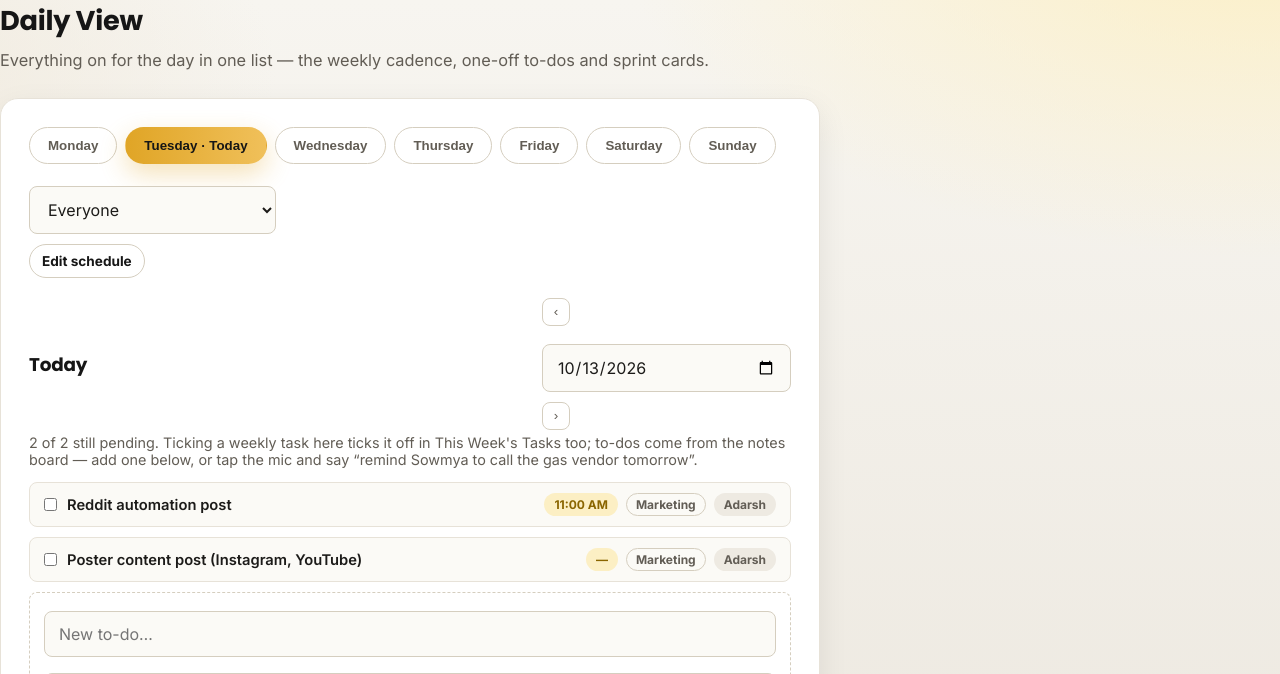
Test case: edit mode turns the rows into fields holding what the schedule says
What coordinates should you click on to do the following:
click the button "Monday"
I would click on:
 (73, 146)
Its box is [29, 127, 117, 164].
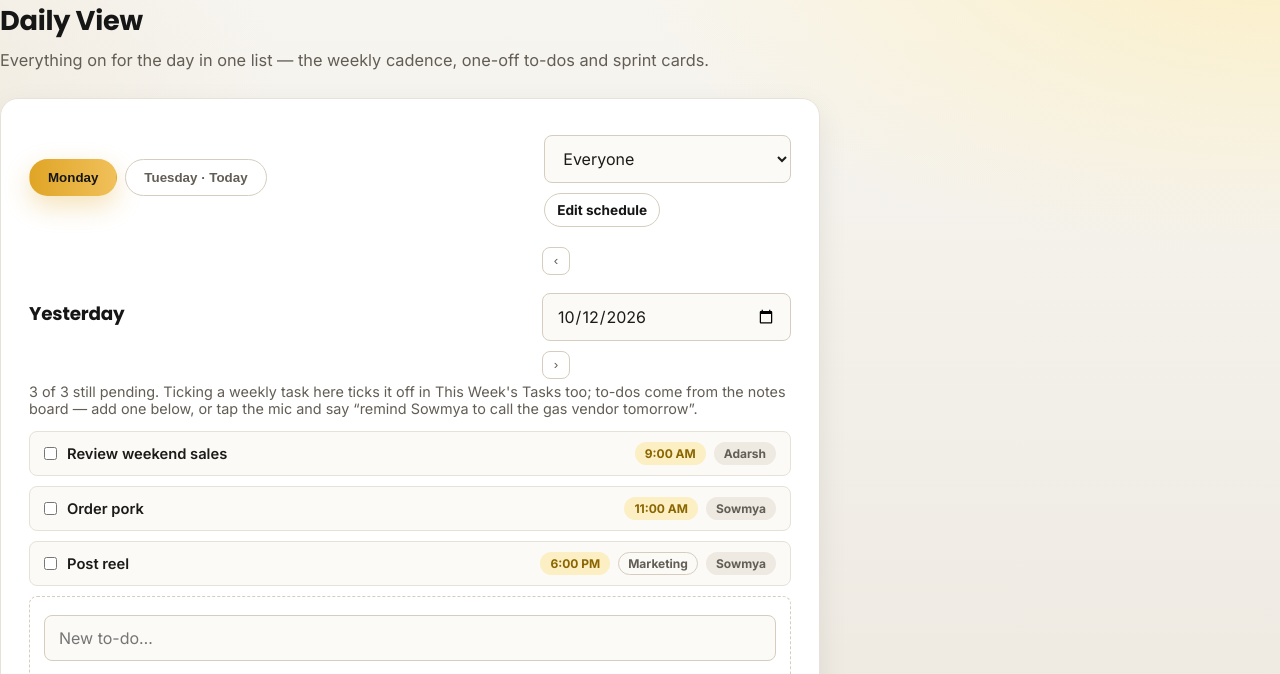
Expected: the text "Review weekend sales" is shown, [67, 444, 227, 462]
What coordinates should you click on to do the following:
click the button "Edit schedule"
I would click on:
 (602, 210)
Its box is [544, 193, 660, 227].
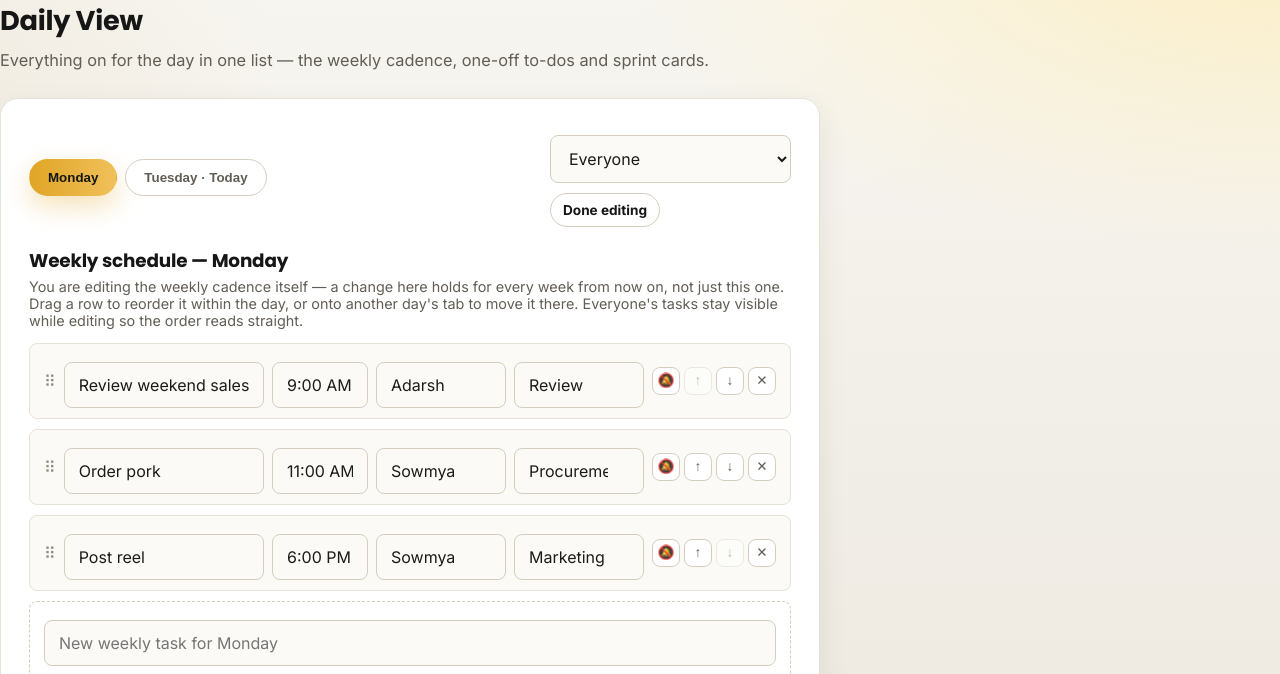
Expected: the field named "Task name for Review weekend sales" holds "Review weekend sales", [64, 362, 264, 408]
Expected: the field named "Time for Review weekend sales" holds "9:00 AM", [272, 362, 368, 408]
Expected: the field named "Assignee for Order pork" holds "Sowmya", [376, 448, 506, 494]
